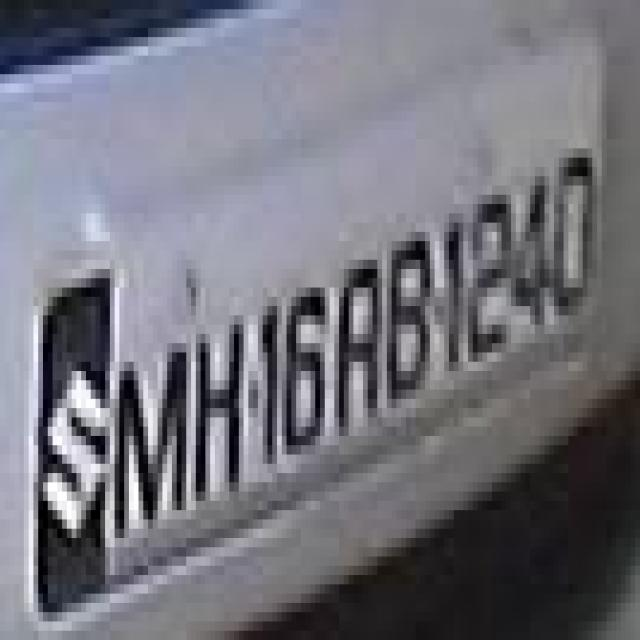license_plate: (0, 223, 640, 510)
